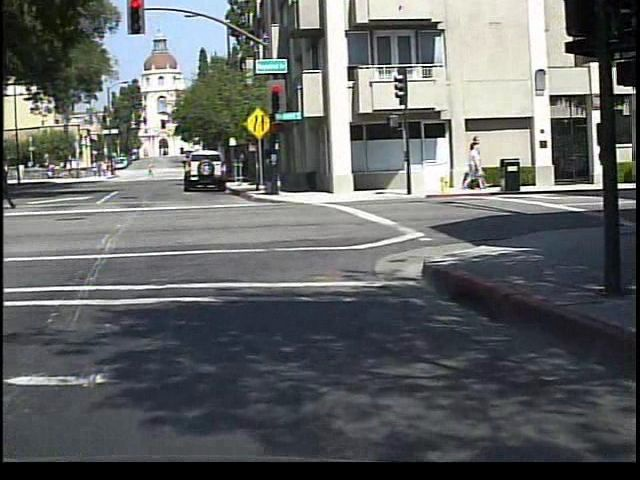person: (7, 167, 37, 224), (4, 159, 24, 213), (149, 161, 158, 178)
